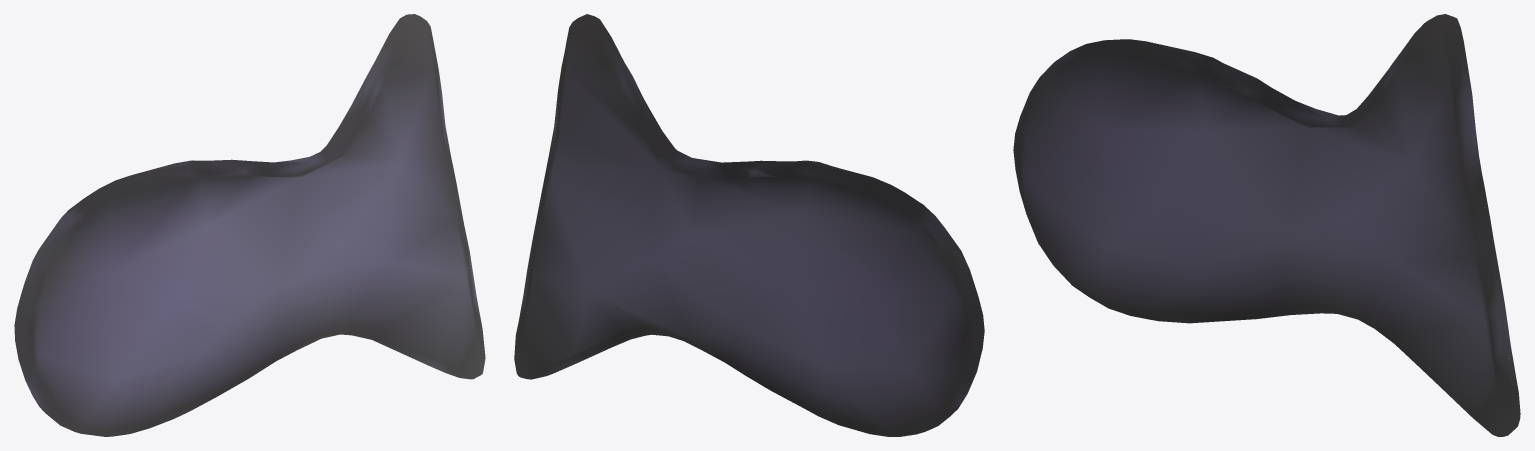
The picture shows the model from 3 angles, left to right: view 1: azimuth 30°, elevation 25°; view 2: azimuth 150°, elevation 25°; view 3: azimuth 330°, elevation 25°; orthographic projection. The views are drawn at different scales.
Bounding box in the file's own units: 0.0392 × 0.0299 × 0.00199.
